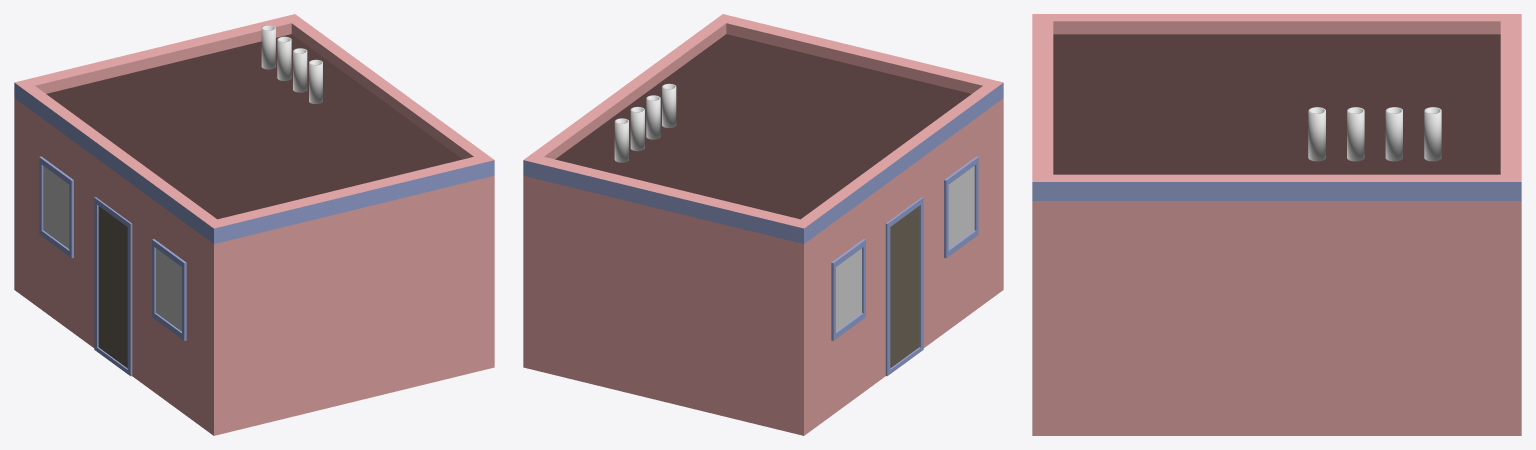
The model's file is haz02_02.fbx.
3 renders of one model, left to right at view 1: azimuth 30°, elevation 25°; view 2: azimuth 150°, elevation 25°; view 3: azimuth 270°, elevation 25°, orthographic. The views are drawn at different scales.
Parts seen in each view (by area): view 1: Cube; view 2: Cube; view 3: Cube.
Part boxes in pixels (x1,y1,x2,y2): Cube: (14, 14, 494, 435); Cube: (523, 14, 1003, 435); Cube: (1032, 14, 1521, 435).
Bounding box in the file's own units: 579 × 459 × 707.
